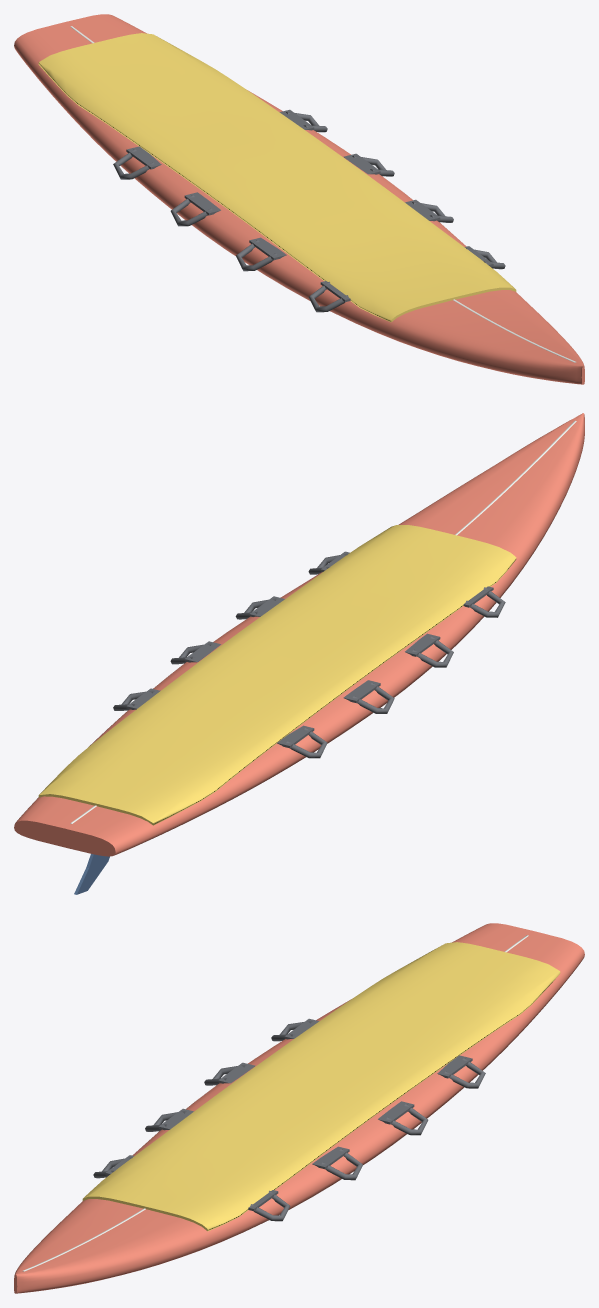
Rendered from beach-surf-and-paddle-kit-rescue-paddleboard-183e649e.glb.
3 views of the same model, one above another, from view 1: azimuth 30°, elevation 25°; view 2: azimuth 150°, elevation 25°; view 3: azimuth 330°, elevation 25° (orthographic).
Visible parts, largest first — view 1: rescue-paddleboard-sun, rescue-paddleboard-coral, rescue-paddleboard-charcoal; view 2: rescue-paddleboard-sun, rescue-paddleboard-coral, rescue-paddleboard-charcoal, rescue-paddleboard-navy; view 3: rescue-paddleboard-sun, rescue-paddleboard-coral, rescue-paddleboard-charcoal.
Boxes of the visible parts, x1,y1,x2,y2 form: rescue-paddleboard-sun: (38,33,516,322); rescue-paddleboard-coral: (14,14,584,384); rescue-paddleboard-charcoal: (113,109,505,312); rescue-paddleboard-sun: (38,525,516,825); rescue-paddleboard-coral: (14,413,584,856); rescue-paddleboard-charcoal: (113,551,505,758); rescue-paddleboard-navy: (74,854,109,894); rescue-paddleboard-sun: (82,942,560,1231); rescue-paddleboard-coral: (14,923,584,1293); rescue-paddleboard-charcoal: (93,1018,485,1221).
Size of the model in its own units: 0.8004 by 0.4113 by 3.4.
